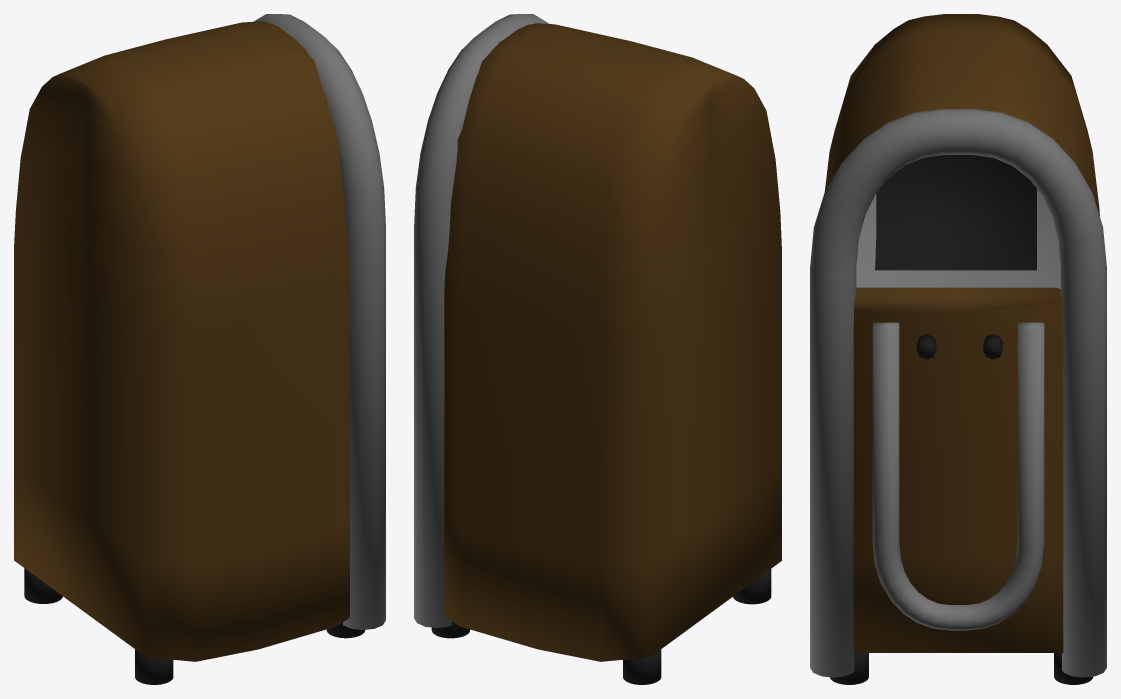
Rendered from JukeBox.fbx.
The picture shows the model from 3 angles, left to right: view 1: azimuth 30°, elevation 25°; view 2: azimuth 150°, elevation 25°; view 3: azimuth 270°, elevation 25°; orthographic projection.
Parts seen in each view (by area): view 1: Cylinder.001; view 2: Cylinder.001; view 3: Cylinder.001.
Boxes of the visible parts, bbox=[...] form: Cylinder.001: bbox=[14, 14, 385, 684]; Cylinder.001: bbox=[414, 14, 781, 684]; Cylinder.001: bbox=[810, 14, 1106, 684].
Size of the model in its own units: 75.73 by 164 by 77.45.
